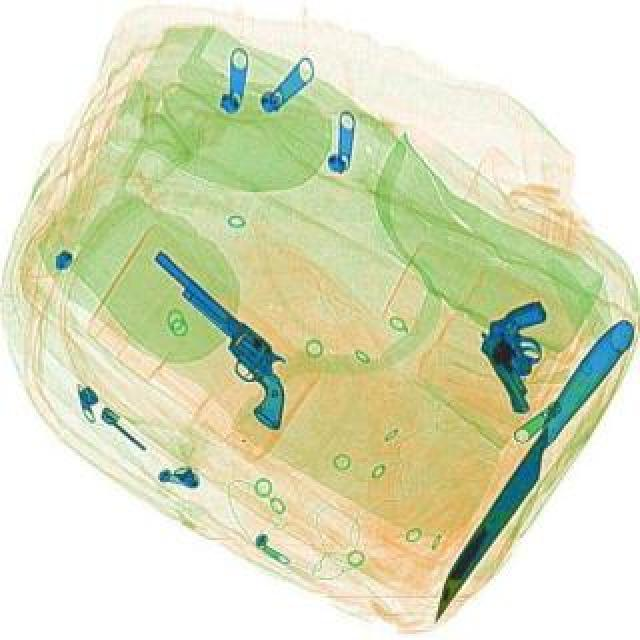gun: (114, 248, 324, 432), (472, 296, 584, 416)
knife: (420, 310, 640, 628)
